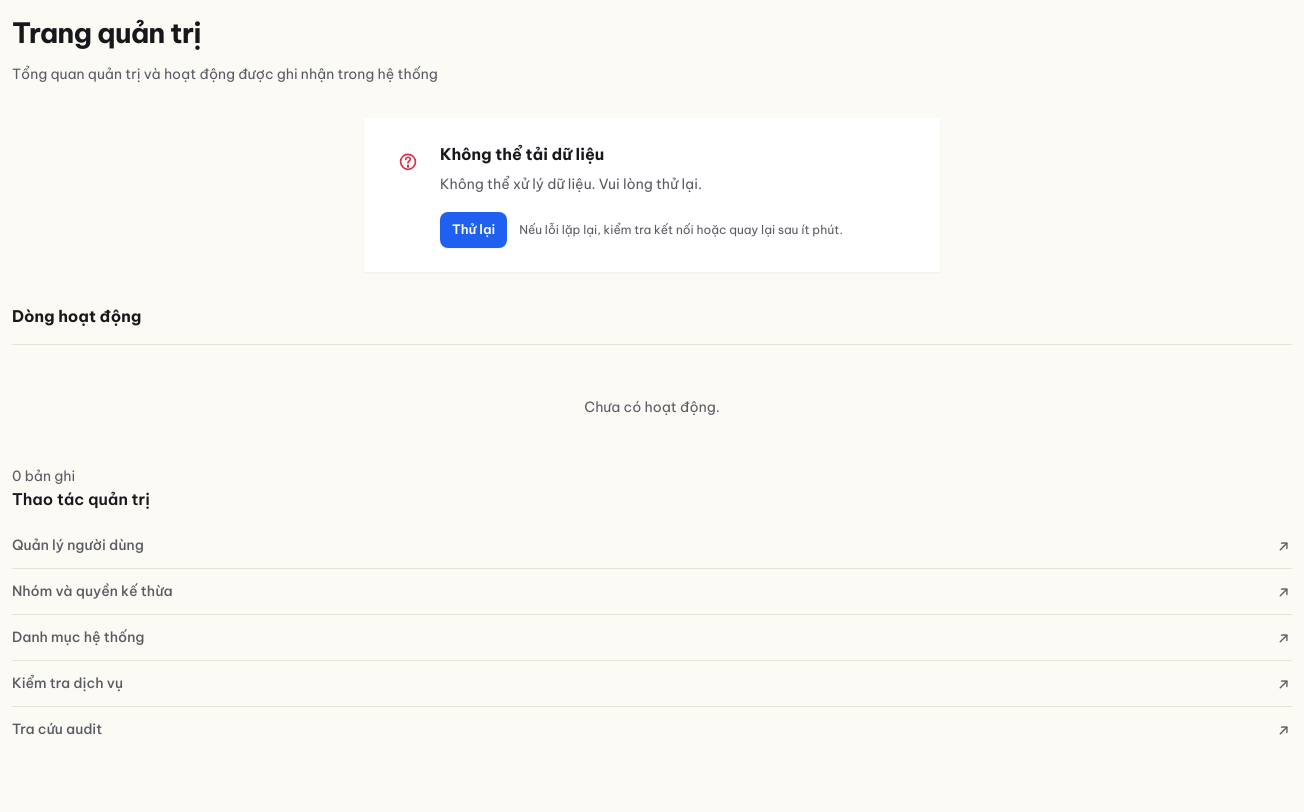
Test case: Admin root route › reports a failed count request and reloads successfully on retry
expect the message that starts with "Không thể tải dữ liệu" is shown: met, box 440,144 -> 604,164
expect the text "17" is not shown: met
What coordinates should you click on to do the following:
click the button "Thử lại"
I would click on:
 (474, 230)
Its box is 440,212 -> 507,248.
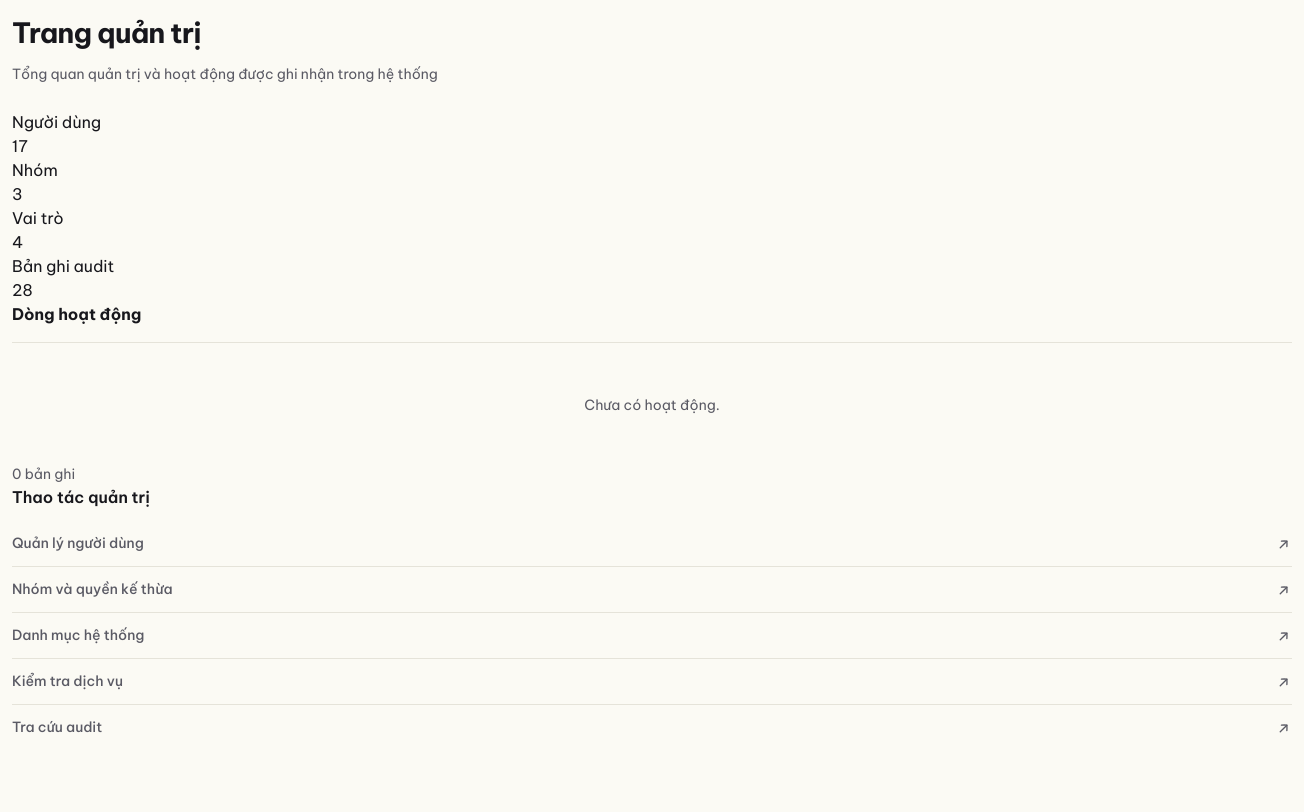
expect the text "17" is shown: met, box 12,136 -> 28,156
